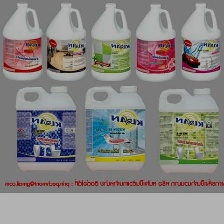cleaning_solution: (82, 83, 148, 173), (12, 84, 78, 173), (156, 86, 221, 174), (43, 1, 89, 83), (0, 0, 45, 83), (87, 1, 133, 82), (134, 1, 178, 84), (180, 1, 221, 82)
